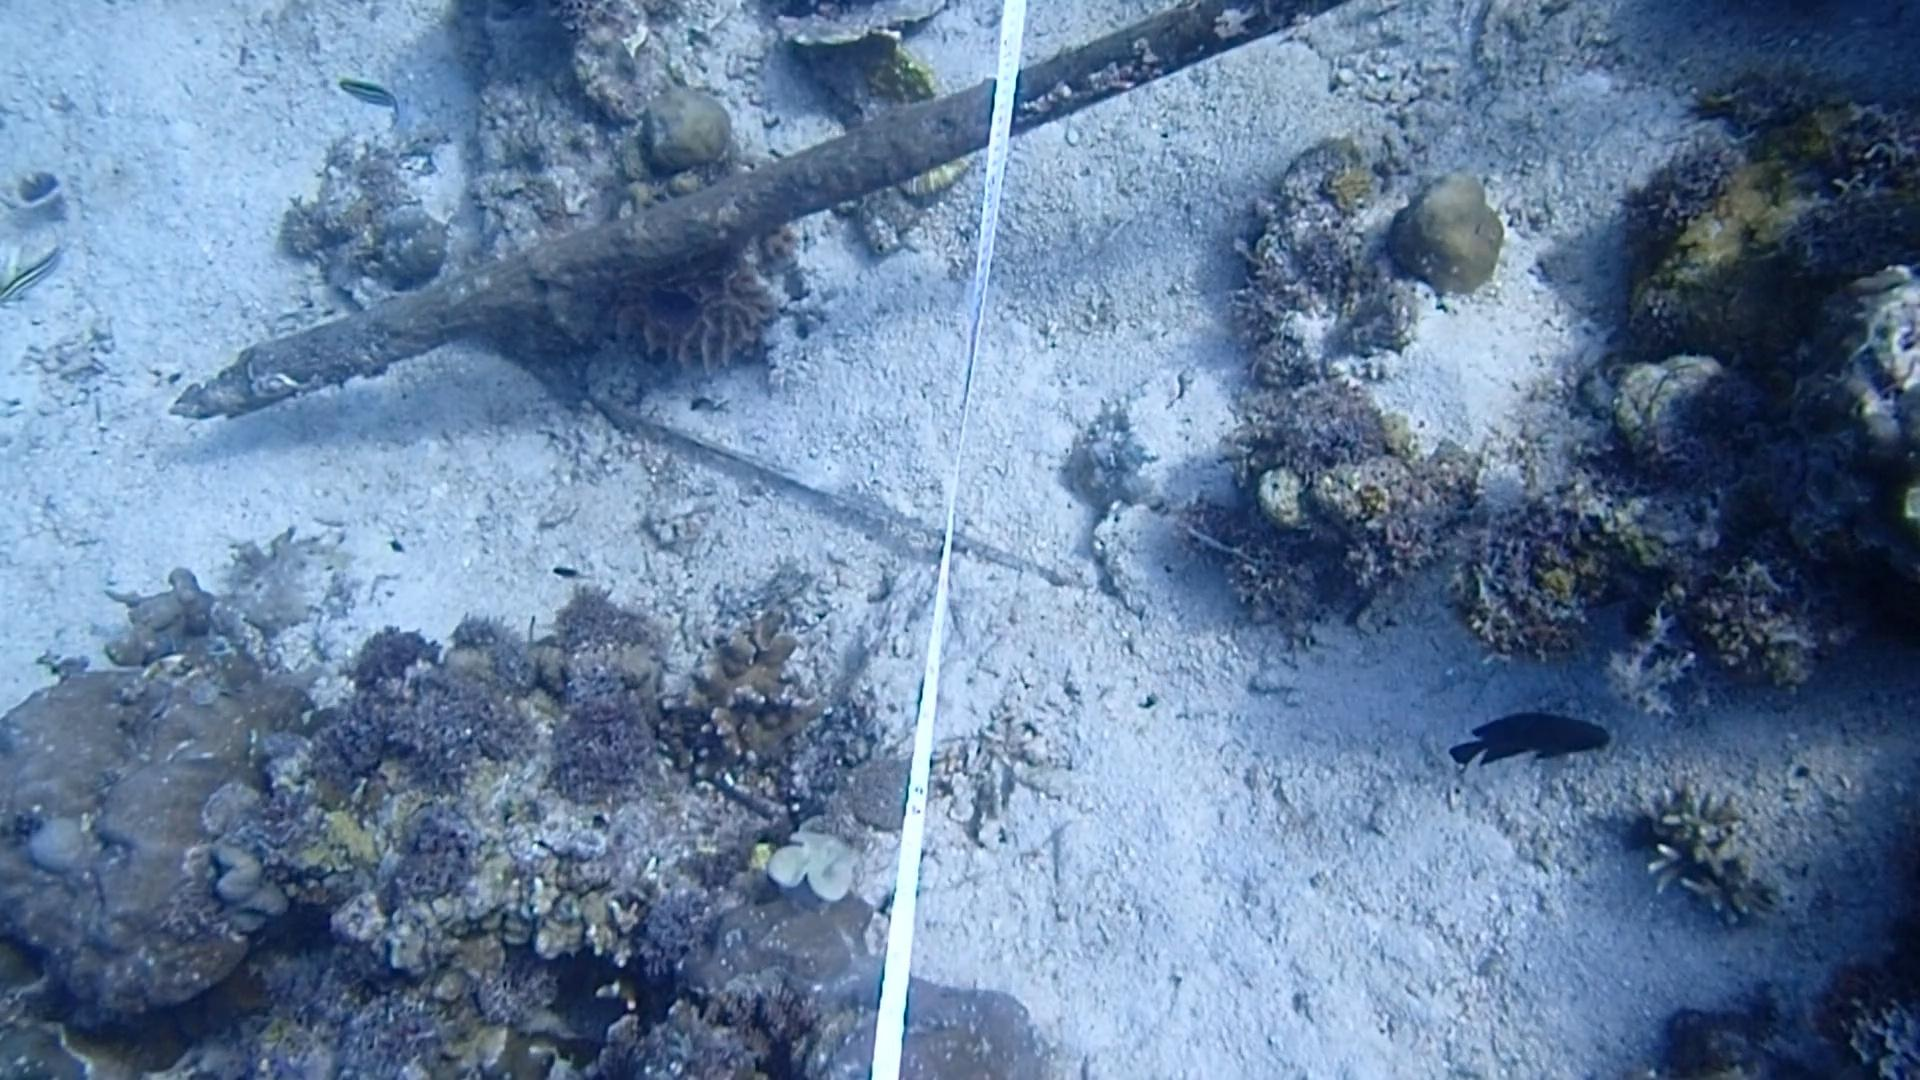Dark Fish: (1428, 702, 1625, 786)
Striped Fish: (0, 232, 73, 323), (326, 69, 406, 132)
